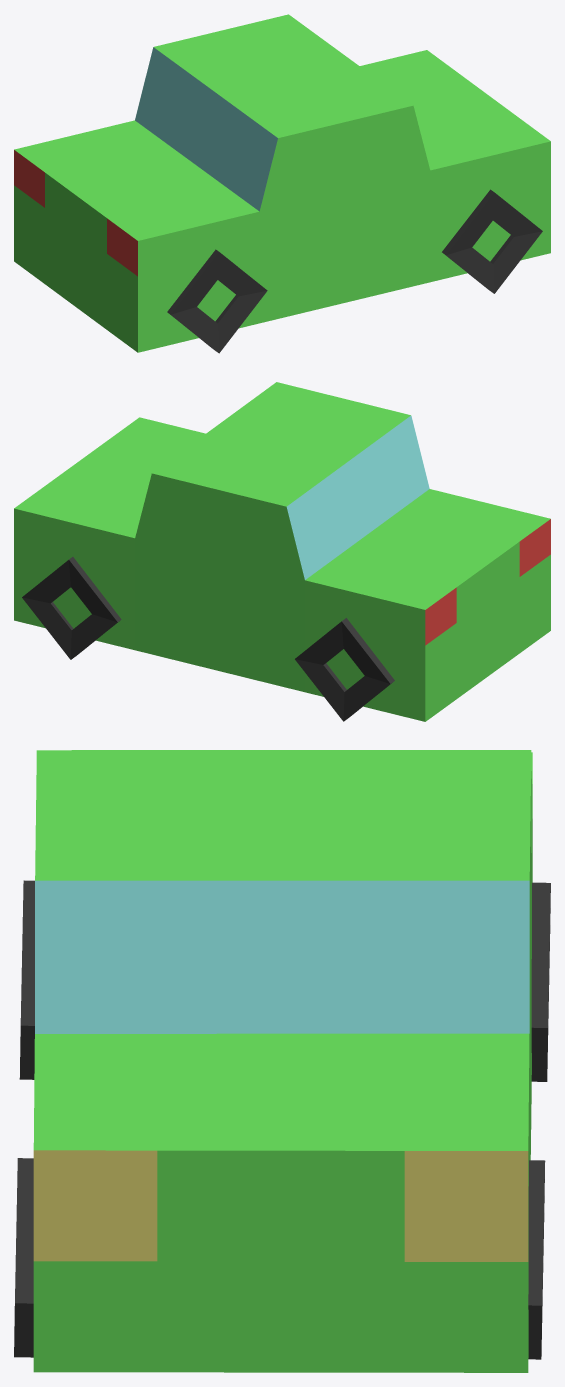
The model's file is Car.glb.
The picture shows the model from 3 angles, top to bottom: view 1: azimuth 30°, elevation 25°; view 2: azimuth 150°, elevation 25°; view 3: azimuth 270°, elevation 25°; orthographic projection. The views are drawn at different scales.
Parts seen in each view (by area): view 1: Car; view 2: Car; view 3: Car.
Part boxes in pixels (x1,y1,x2,y2): Car: (14,14,550,353); Car: (14,382,550,721); Car: (14,750,550,1372).
Size of the model in its own units: 0.3861 by 0.1818 by 0.2194.
